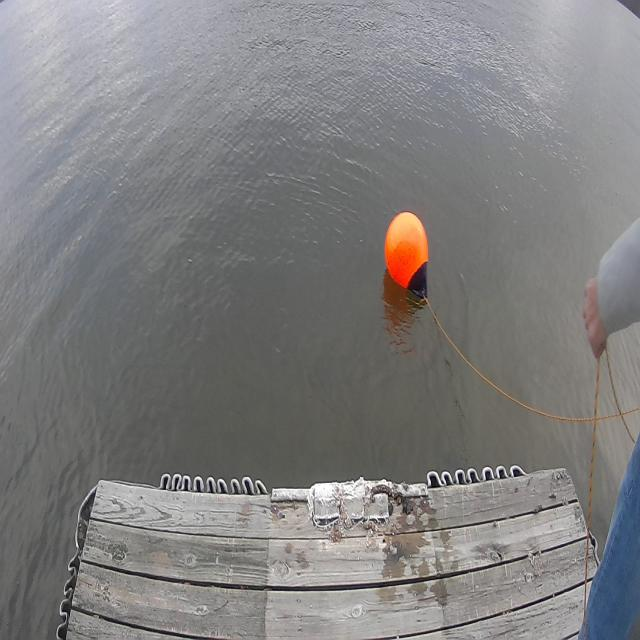Buoy: (382, 203, 438, 309)
